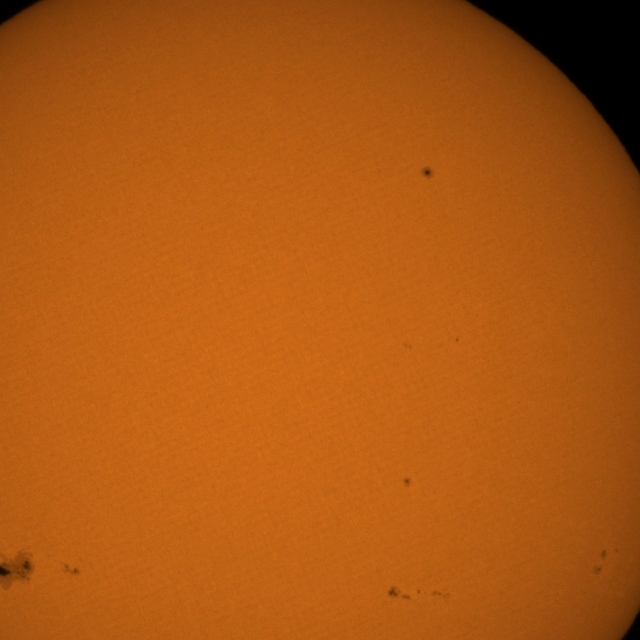sunspot: (0, 548, 36, 591), (592, 546, 612, 576), (387, 586, 415, 602), (426, 588, 450, 600), (62, 562, 81, 577), (420, 166, 434, 180), (592, 562, 603, 576), (402, 476, 412, 488), (454, 336, 460, 344), (416, 588, 422, 595)
